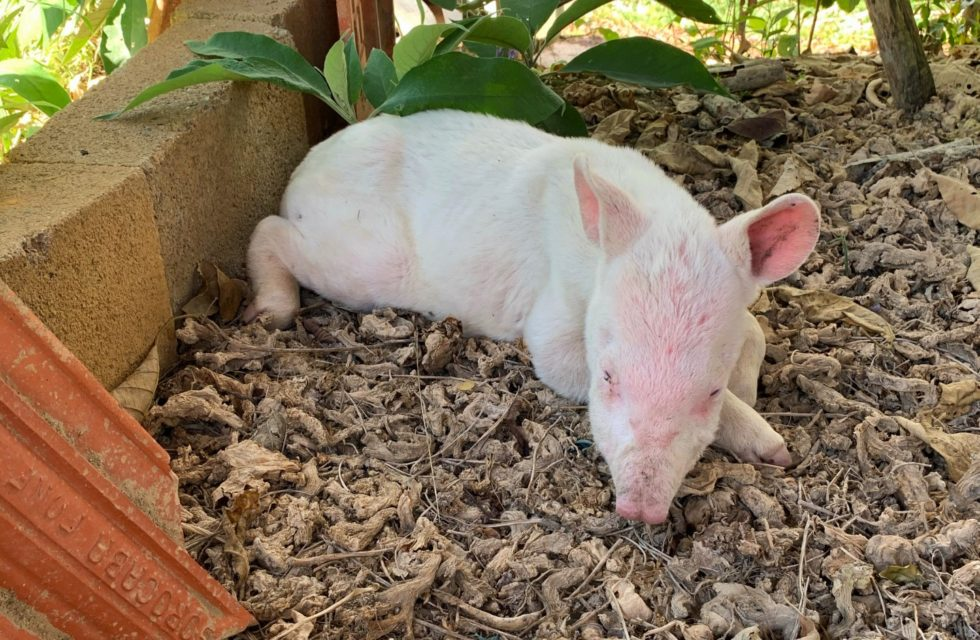Anta: (233, 99, 828, 527)
